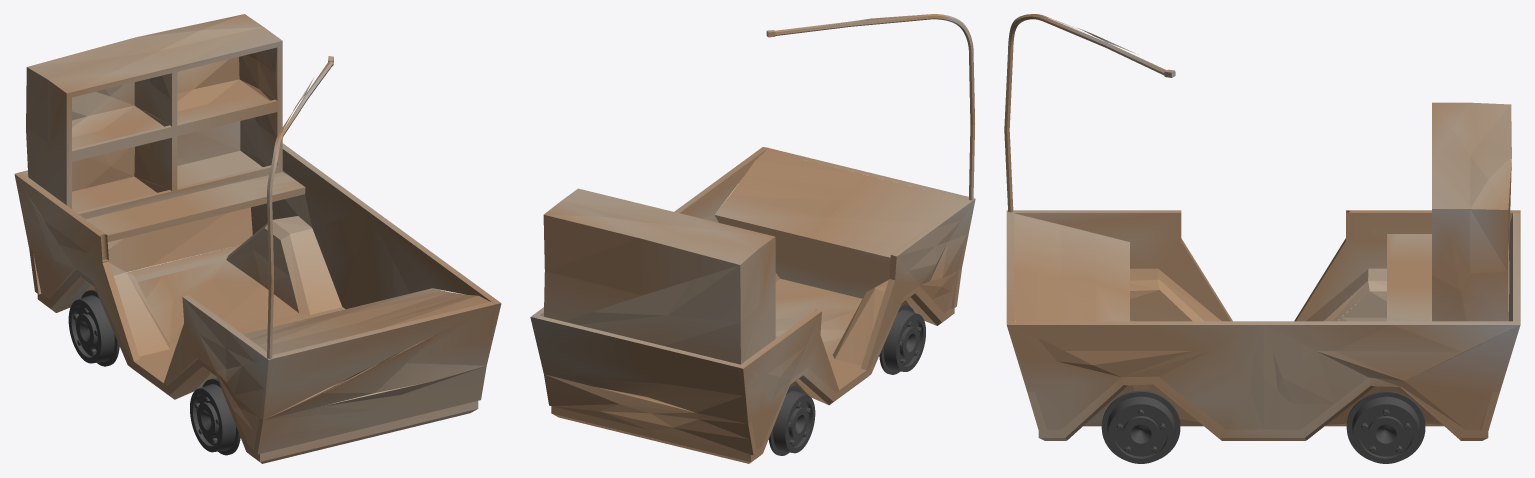
Rendered from cart_separated.glb.
3 views of the same model, side by side, from view 1: azimuth 30°, elevation 25°; view 2: azimuth 150°, elevation 25°; view 3: azimuth 270°, elevation 25° (orthographic). The views are drawn at different scales.
Visible parts, largest first — view 1: cart, shelf, wheel3, wheel2, hook; view 2: cart, shelf, wheel2, wheel3, hook; view 3: cart, shelf, wheel1, wheel4, hook.
Part boxes in pixels (<box>): cart: <box>14,143,501,463</box>; shelf: <box>26,14,305,241</box>; wheel3: <box>68,289,119,366</box>; wheel2: <box>190,378,240,455</box>; hook: <box>267,56,333,358</box>; cart: <box>530,147,975,463</box>; shelf: <box>543,188,778,364</box>; wheel2: <box>879,304,925,374</box>; wheel3: <box>768,385,815,455</box>; hook: <box>766,14,974,200</box>; cart: <box>1006,210,1520,440</box>; shelf: <box>1387,102,1511,321</box>; wheel1: <box>1101,390,1180,463</box>; wheel4: <box>1346,391,1425,463</box>; hook: <box>1004,14,1175,212</box>.
Bounding box in the file's own units: 1.82 × 2.64 × 3.44.
